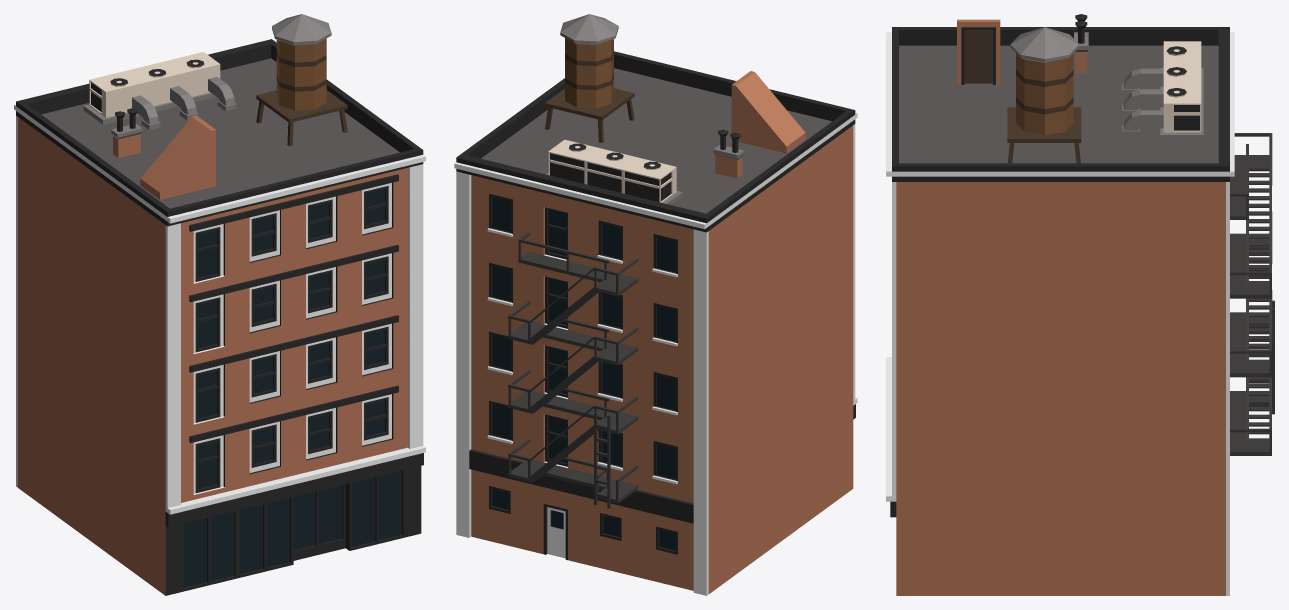
File: building-block-4floor-back.glb
3 renders of one model, left to right at view 1: azimuth 30°, elevation 25°; view 2: azimuth 150°, elevation 25°; view 3: azimuth 270°, elevation 25°, orthographic. The views are drawn at different scales.
Parts seen in each view (by area): view 1: building-block-4floor-back; view 2: building-block-4floor-back; view 3: building-block-4floor-back.
Part boxes in pixels (<box>): building-block-4floor-back: <box>14,14,425,595</box>; building-block-4floor-back: <box>454,14,857,595</box>; building-block-4floor-back: <box>886,14,1274,595</box>.
Bounding box in the file's own units: 11.4 × 20.61 × 13.44.
Materials: 1 (1 with a texture image).
